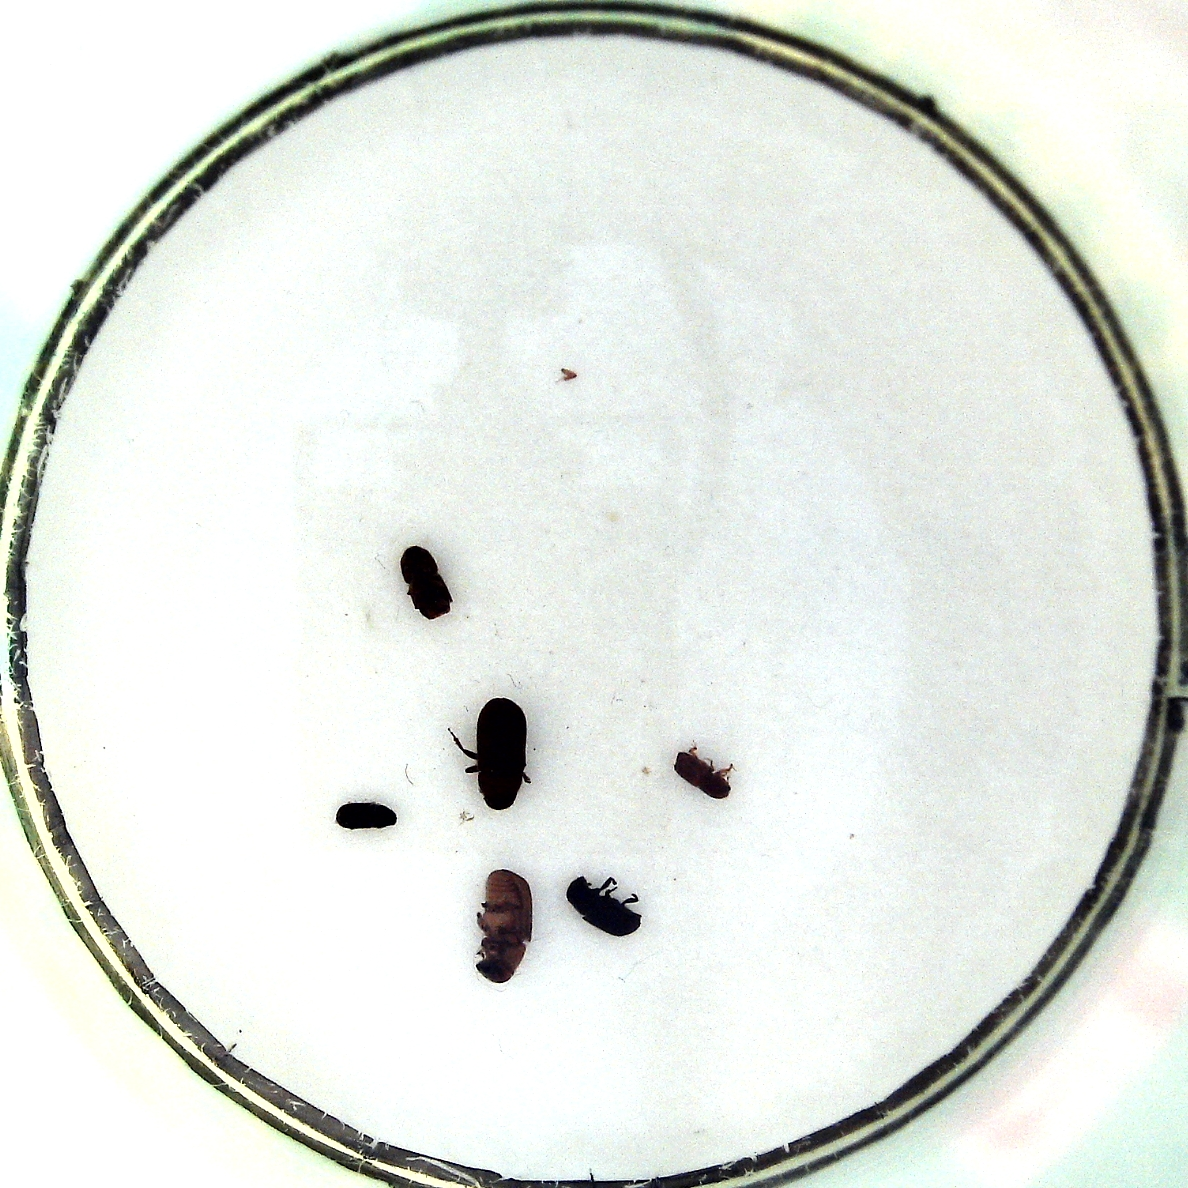Leconte: (454, 697, 531, 813), (474, 868, 539, 983)
Linnaeus: (397, 541, 459, 622)
acuminatus: (667, 745, 733, 804)
armandi: (561, 873, 644, 938)
coleoptera: (331, 800, 400, 833)
